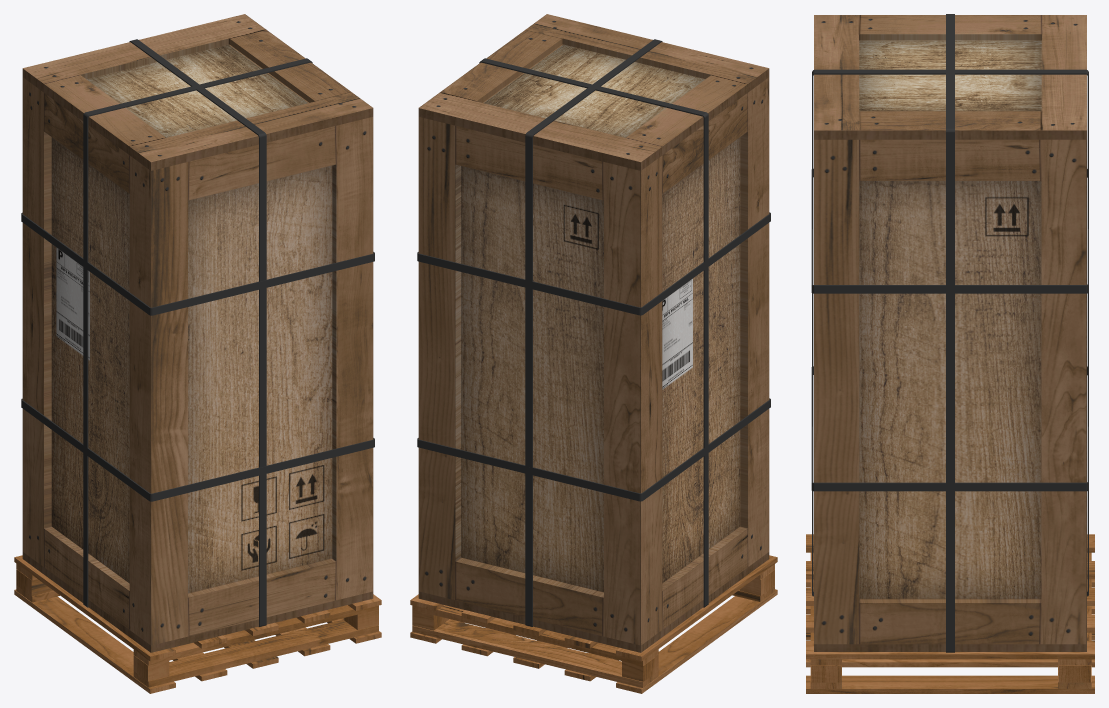
Rendered from HeightBox.fbx.
3 renders of one model, left to right at view 1: azimuth 30°, elevation 25°; view 2: azimuth 150°, elevation 25°; view 3: azimuth 270°, elevation 25°, orthographic. The views are drawn at different scales.
Visible parts, largest first — view 1: BoxCao1, BoxCao2, BoxCaoPallet; view 2: BoxCao1, BoxCao2, BoxCaoPallet; view 3: BoxCao1, BoxCao2, BoxCaoPallet.
Boxes of the visible parts, <box> form: BoxCao1: <box>22,14,373,652</box>; BoxCao2: <box>21,39,374,626</box>; BoxCaoPallet: <box>14,555,381,693</box>; BoxCao1: <box>418,14,769,652</box>; BoxCao2: <box>417,39,770,626</box>; BoxCaoPallet: <box>410,555,777,693</box>; BoxCao1: <box>814,15,1086,651</box>; BoxCao2: <box>811,14,1088,652</box>; BoxCaoPallet: <box>806,534,1094,693</box>.
Bounding box in the file's own units: 147 × 322 × 150.
